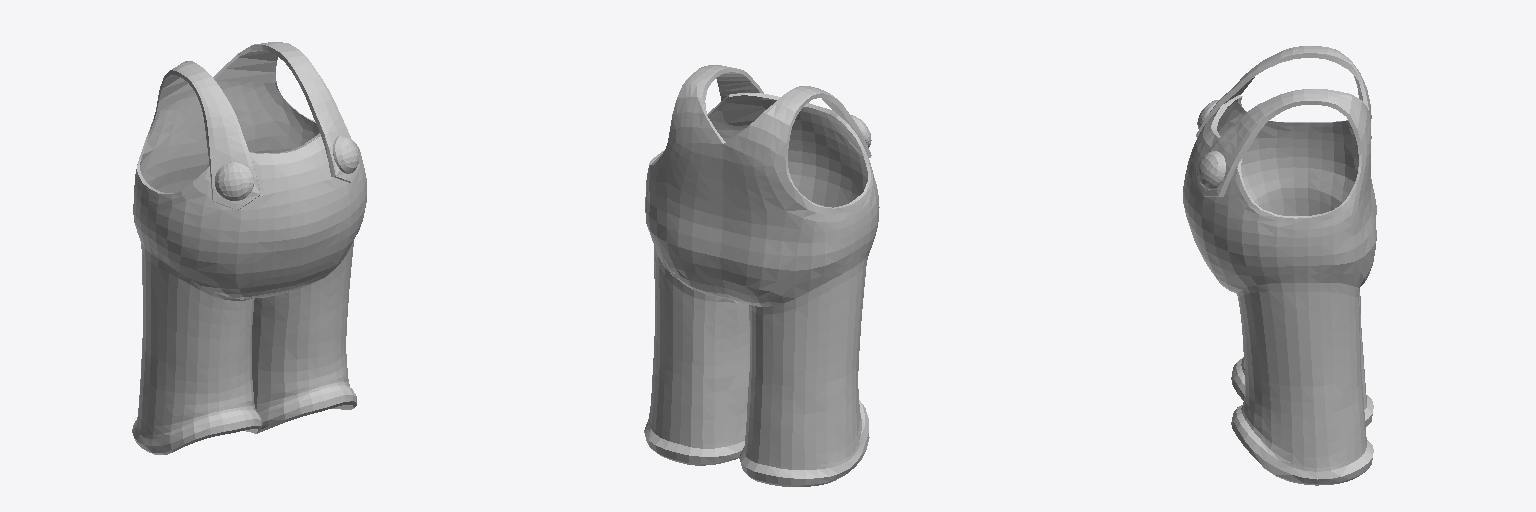
Rendered from coverall.obj.
3 renders of one model, left to right at view 1: azimuth 30°, elevation 25°; view 2: azimuth 150°, elevation 25°; view 3: azimuth 270°, elevation 25°, orthographic.
Visible parts, largest first — view 1: eye_outer; view 2: eye_outer; view 3: eye_outer.
Boxes of the visible parts, x1=… form: eye_outer: x1=132, y1=42, x2=366, y2=454; eye_outer: x1=644, y1=65, x2=879, y2=486; eye_outer: x1=1183, y1=46, x2=1376, y2=485.
Size of the model in its own units: 2.25 by 3.9 by 1.85.